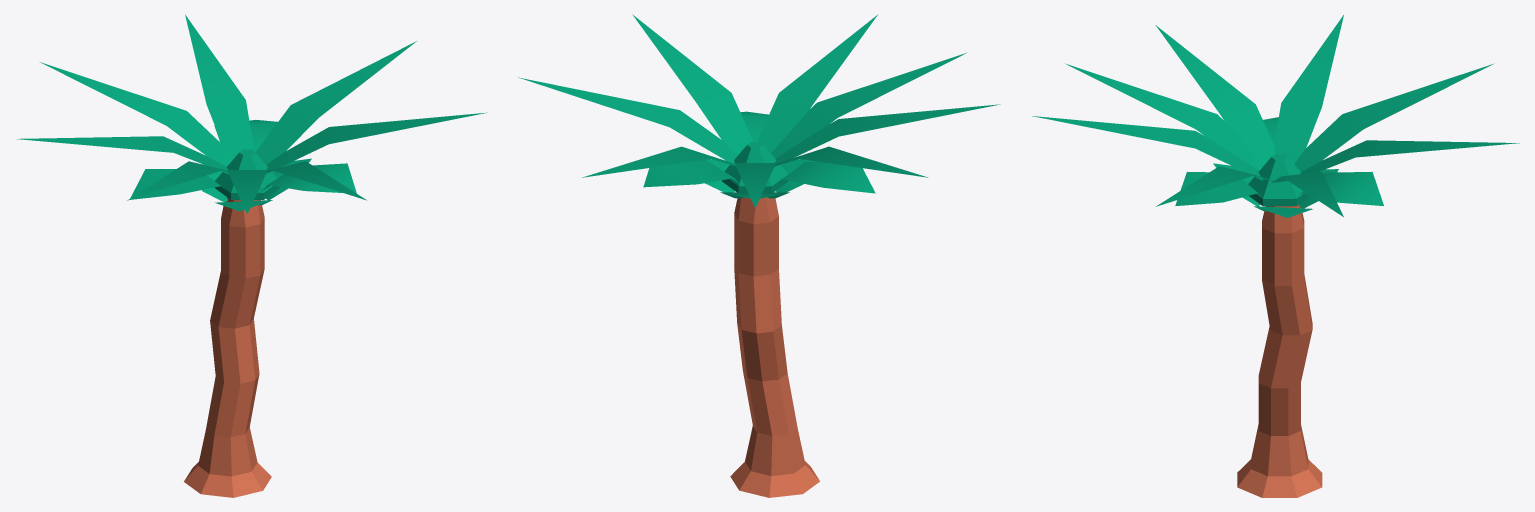
Rendered from Palme1.fbx.
The picture shows the model from 3 angles, left to right: view 1: azimuth 30°, elevation 25°; view 2: azimuth 150°, elevation 25°; view 3: azimuth 270°, elevation 25°; orthographic projection. The views are drawn at different scales.
Parts seen in each view (by area): view 1: mergedBlocks; view 2: mergedBlocks; view 3: mergedBlocks.
Boxes of the visible parts, x1,y1,x2,y2 form: mergedBlocks: [17, 14, 486, 497]; mergedBlocks: [518, 14, 1000, 497]; mergedBlocks: [1032, 15, 1519, 497].
Bounding box in the file's own units: 413 × 354 × 421.
